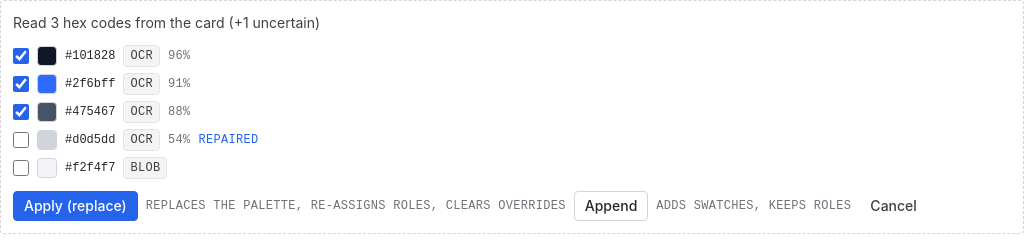
Scenario: ReadPalettePanel review state › disables both actions once nothing is checked
Click the checkbox labelled "#101828 OCR 96%".
click(21, 56)  # box top-left (13, 48), bottom-right (29, 64)
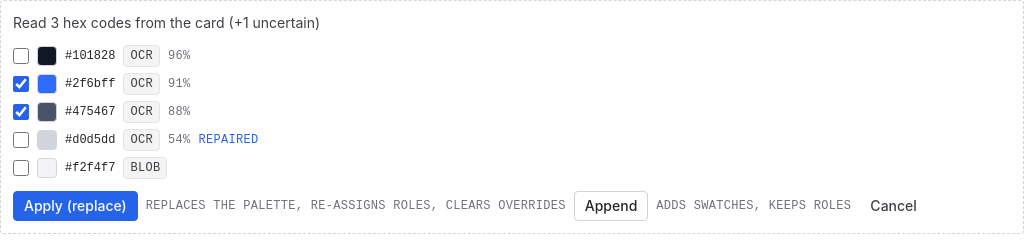
Click the checkbox labelled "#2f6bff OCR 91%".
click(21, 84)  # box top-left (13, 76), bottom-right (29, 92)
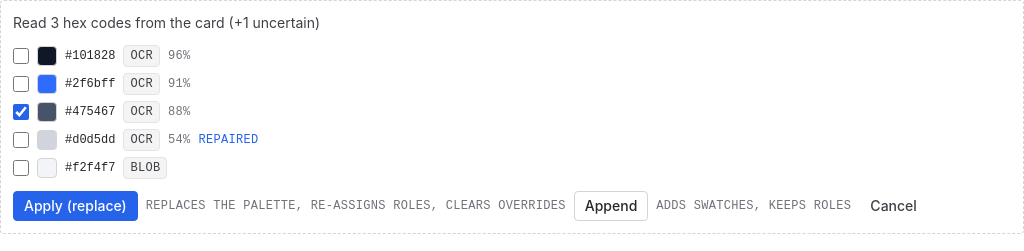
Click the checkbox labelled "#475467 OCR 88%".
click(21, 112)  # box top-left (13, 104), bottom-right (29, 120)
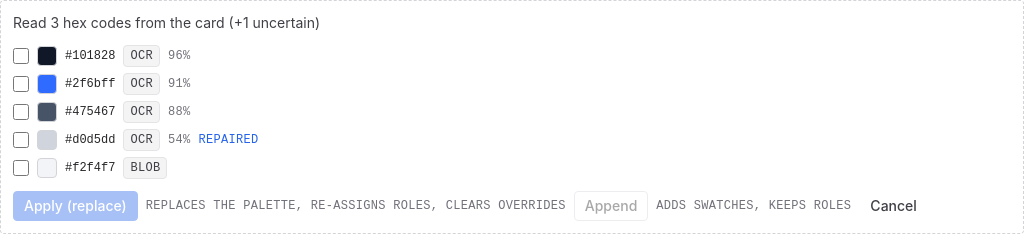
expect the button "Apply (replace)" is disabled: met, box top-left (13, 191), bottom-right (138, 221)
expect the button "Append" is disabled: met, box top-left (574, 191), bottom-right (648, 221)
